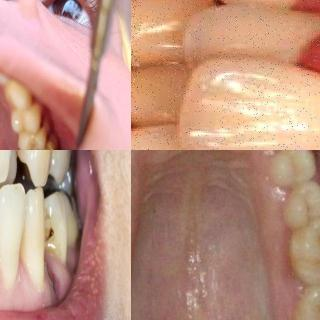cavities: (38, 216, 66, 258), (26, 144, 54, 150)
maligned: (183, 0, 320, 77), (0, 150, 23, 180)
